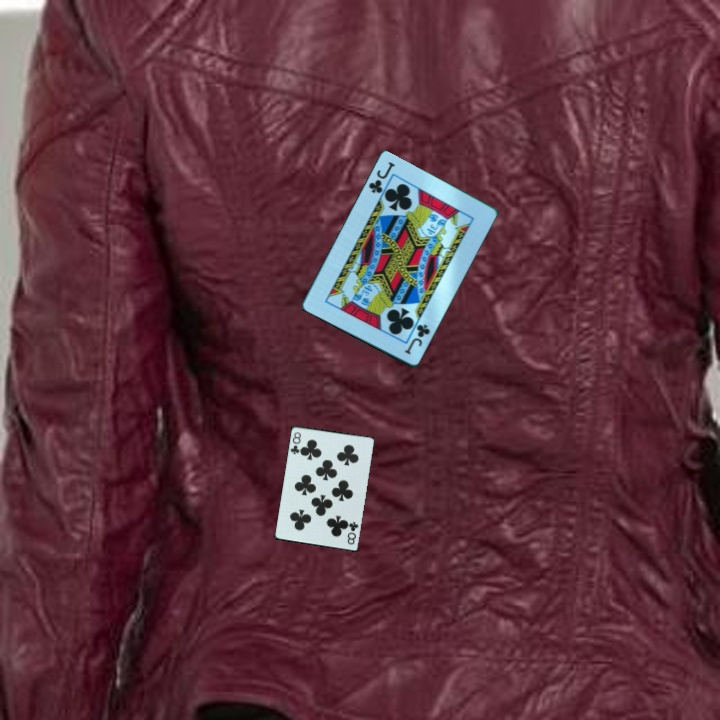8c: (344, 518, 361, 547), (287, 429, 304, 457)
Jc: (365, 159, 398, 197), (401, 321, 433, 358)
